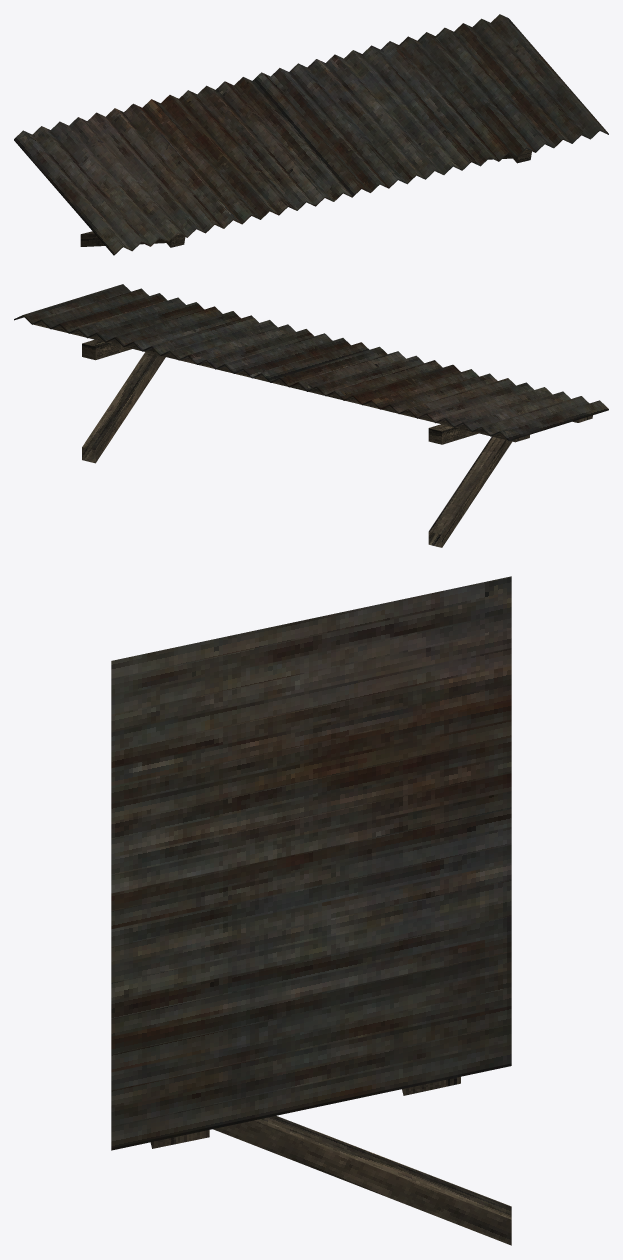
The model's file is roof_small_hr_3.glb.
The picture shows the model from 3 angles, top to bottom: view 1: azimuth 30°, elevation 25°; view 2: azimuth 150°, elevation 25°; view 3: azimuth 270°, elevation 25°; orthographic projection. The views are drawn at different scales.
Parts seen in each view (by area): view 1: roof_small_hr_3; view 2: roof_small_hr_3; view 3: roof_small_hr_3.
Part boxes in pixels (x1,y1,x2,y2): roof_small_hr_3: [14, 14, 608, 255]; roof_small_hr_3: [14, 284, 608, 547]; roof_small_hr_3: [111, 576, 511, 1245].
Size of the model in its own units: 4 by 1.01 by 1.4.
Materials: 2 (2 with a texture image).
